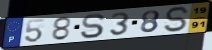3: (109, 12, 131, 36)
5: (24, 18, 47, 43)
8: (139, 9, 161, 34), (52, 16, 73, 41)
S: (164, 6, 192, 33), (79, 13, 107, 39)
